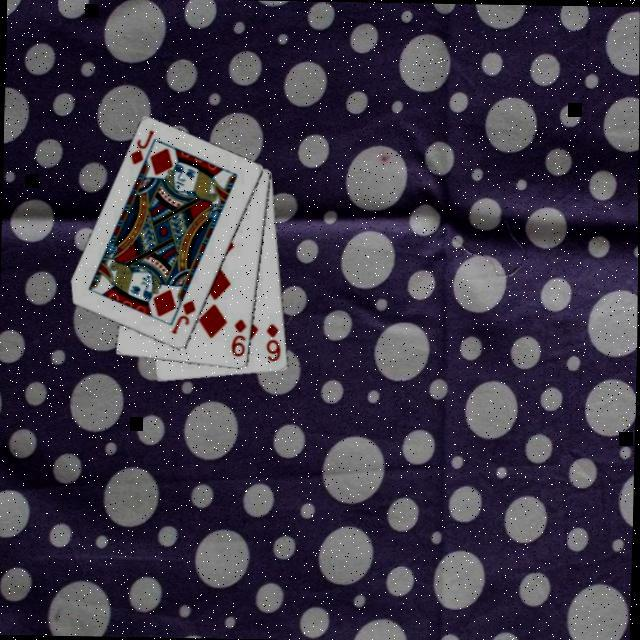6D: (261, 318, 282, 362)
9D: (226, 314, 248, 357)
JD: (124, 124, 156, 166), (166, 294, 197, 336)
